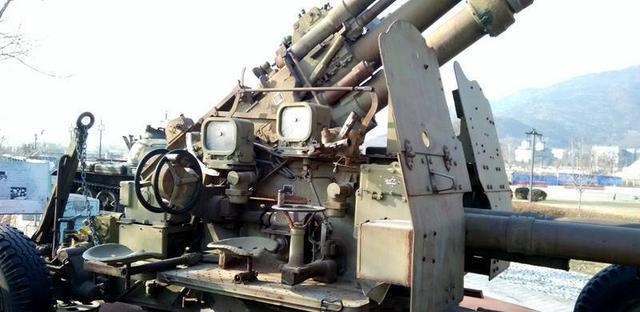MIL_SPG: (48, 0, 640, 311)
